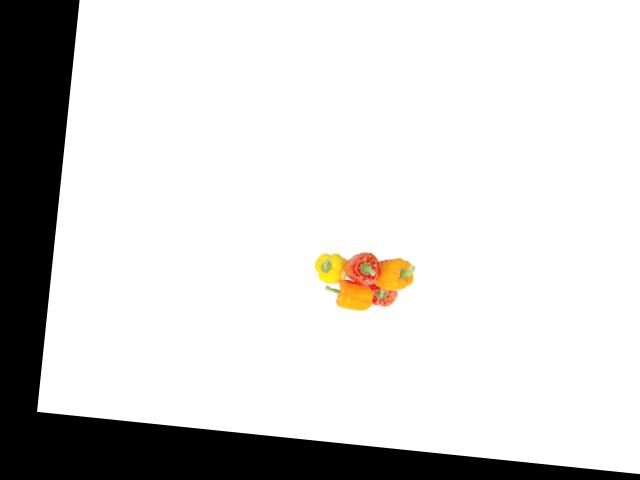bell_pepper: (371, 252, 424, 296)
